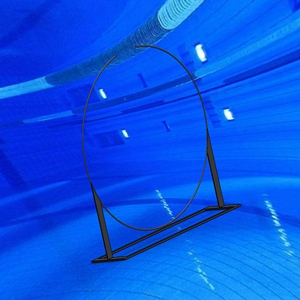circle: (81, 43, 241, 264)
